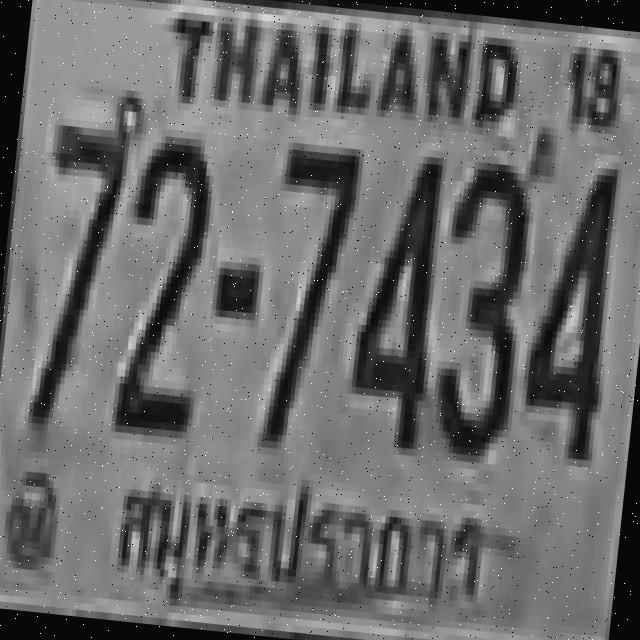2: (108, 126, 214, 431)
3: (427, 152, 533, 450)
4: (342, 144, 448, 448), (516, 158, 618, 456)
7: (21, 103, 134, 430), (254, 134, 360, 446)
SamutPrakan: (96, 456, 503, 640)
